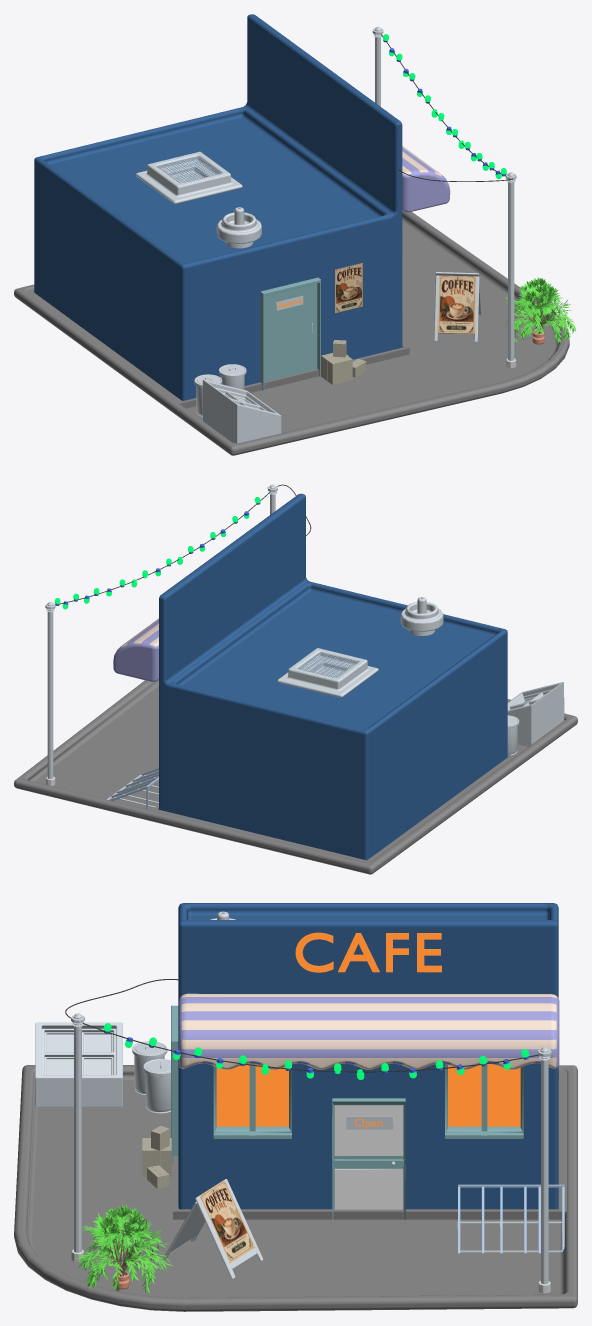
File: cafe.glb
The picture shows the model from 3 angles, top to bottom: view 1: azimuth 30°, elevation 25°; view 2: azimuth 150°, elevation 25°; view 3: azimuth 270°, elevation 25°; orthographic projection. The views are drawn at different scales.
Visible parts, largest first — view 1: Plane.001, Plane, Plane.002, Cube.003, Plane.005, Plane.012, leaves, Plane.013, Plane.007, Circle, Circle.006, Plane.008 (+2 smaller); view 2: Plane.001, Plane, Plane.005, Cube.003, Plane.013, Plane.007, Circle, Circle.009, Plane.006; view 3: Plane.001, Plane, Plane.013, Plane.004, Plane.003, Cube.003, Plane.007, leaves, Plane.011, Text, Circle.006, Circle.009 (+7 smaller).
Part boxes in pixels (<box>): Plane.001: <box>34,14,402,400</box>; Plane: <box>14,210,569,455</box>; Plane.002: <box>260,277,320,390</box>; Cube.003: <box>202,379,281,443</box>; Plane.005: <box>135,152,242,204</box>; Plane.012: <box>434,275,479,341</box>; leaves: <box>505,277,575,343</box>; Plane.013: <box>402,146,450,212</box>; Plane.007: <box>27,288,409,408</box>; Circle: <box>216,207,261,248</box>; Circle.006: <box>508,182,514,360</box>; Plane.008: <box>335,263,362,312</box>; Plane.001: <box>159,493,507,860</box>; Plane: <box>14,679,577,874</box>; Plane.005: <box>277,648,378,697</box>; Cube.003: <box>507,682,564,746</box>; Plane.013: <box>113,618,158,681</box>; Plane.007: <box>151,754,514,862</box>; Circle: <box>400,597,443,635</box>; Circle.009: <box>47,612,53,778</box>; Plane.006: <box>289,648,367,681</box>; Plane.001: <box>178,903,558,1209</box>; Plane: <box>14,1065,577,1311</box>; Plane.013: <box>179,993,559,1069</box>; Plane.004: <box>213,1063,523,1138</box>; Plane.003: <box>332,1098,405,1219</box>; Cube.003: <box>35,1022,122,1106</box>; Plane.007: <box>173,1069,566,1219</box>; leaves: <box>74,1204,172,1292</box>; Plane.011: <box>195,1179,263,1278</box>; Text: <box>295,932,441,972</box>; Circle.006: <box>74,1026,81,1252</box>; Circle.009: <box>541,1060,548,1284</box>.
Size of the model in its own units: 10.03 by 6.1 by 10.03.
18 materials, 2 textured.
